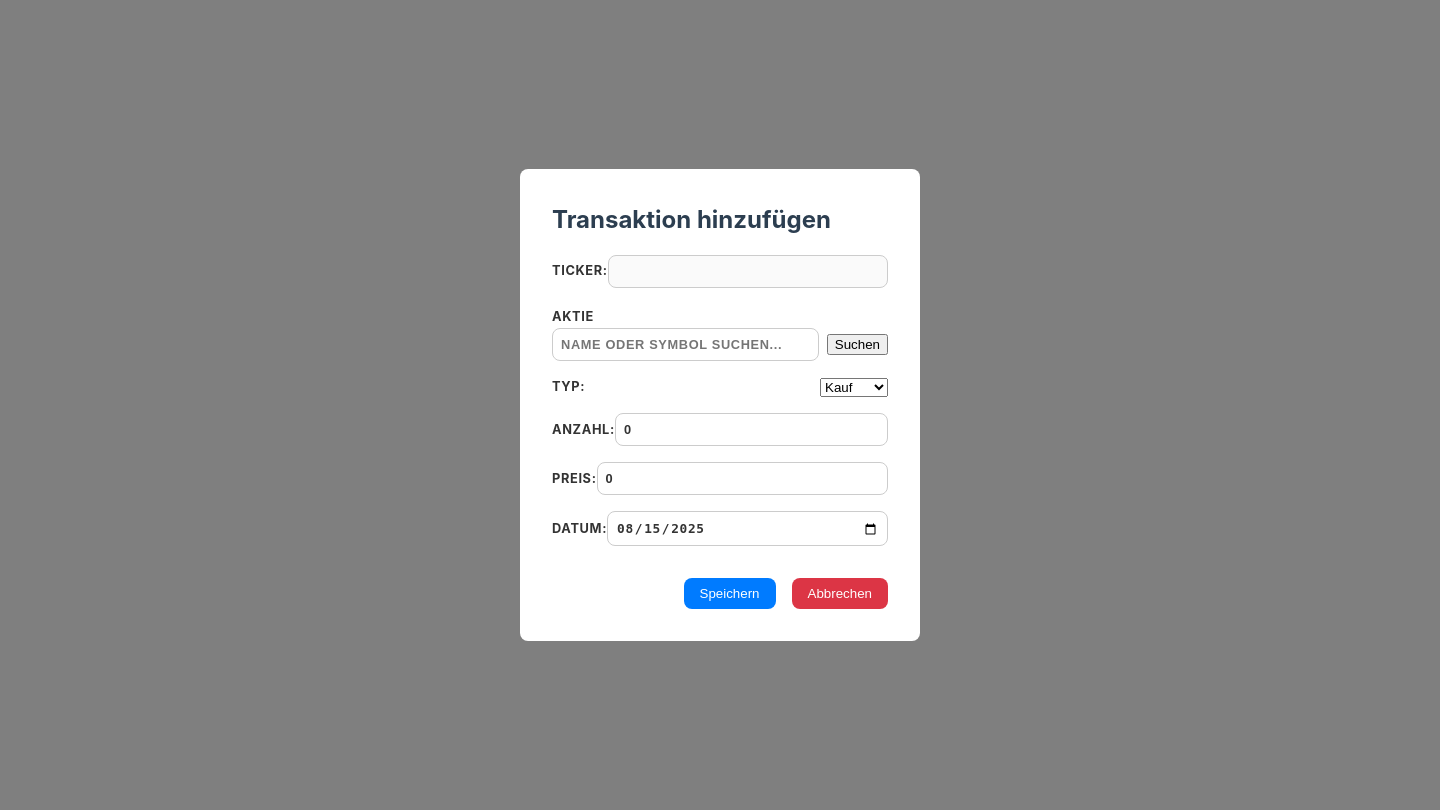
Test: AddTransactionModal › shows a message if search query is less than 3 characters
Type "Ap" into the field with id "stock-search".
click(685, 344); type("Ap")  # box top-left (552, 328), bottom-right (819, 361)
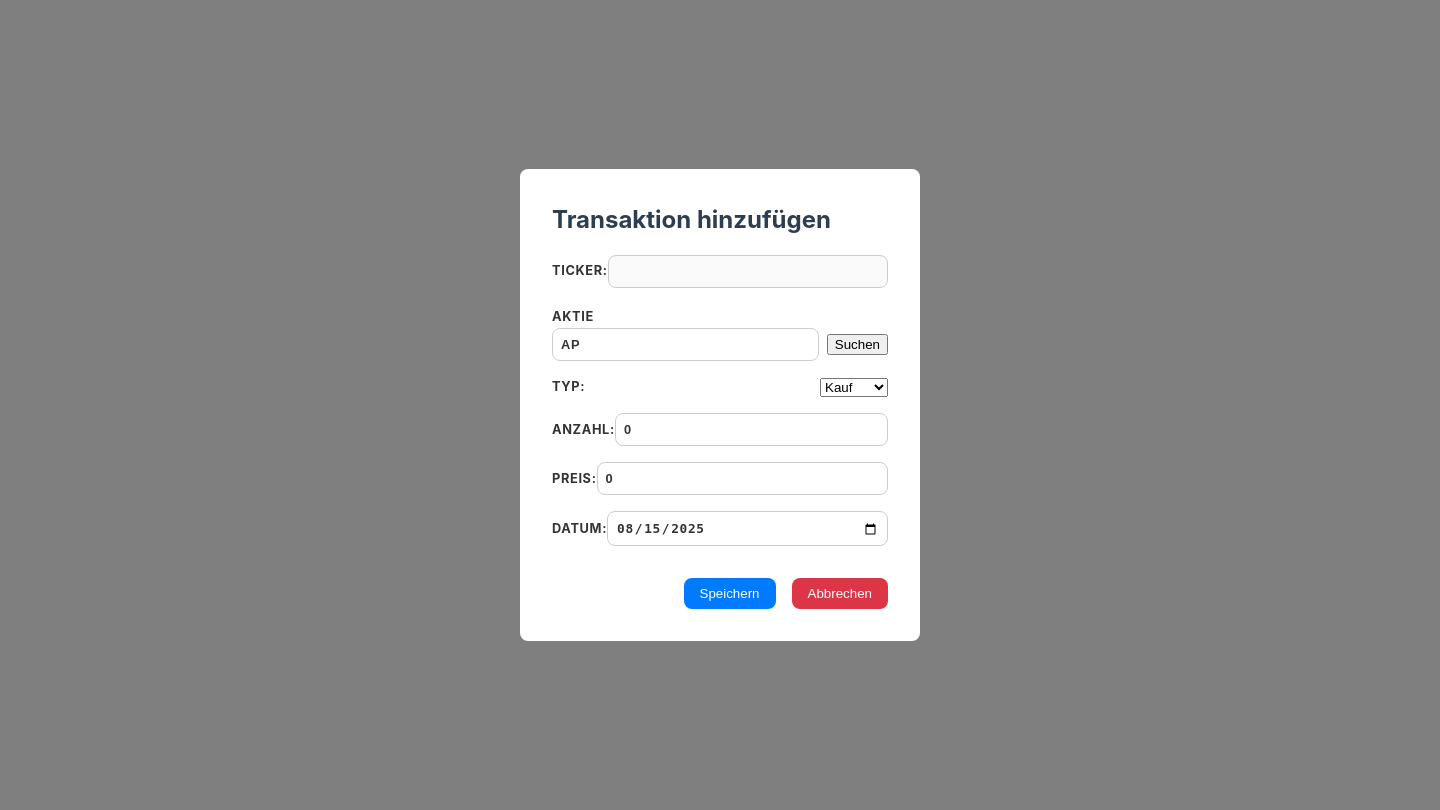
Click the button "Suchen".
click(857, 344)  # box top-left (827, 334), bottom-right (888, 355)
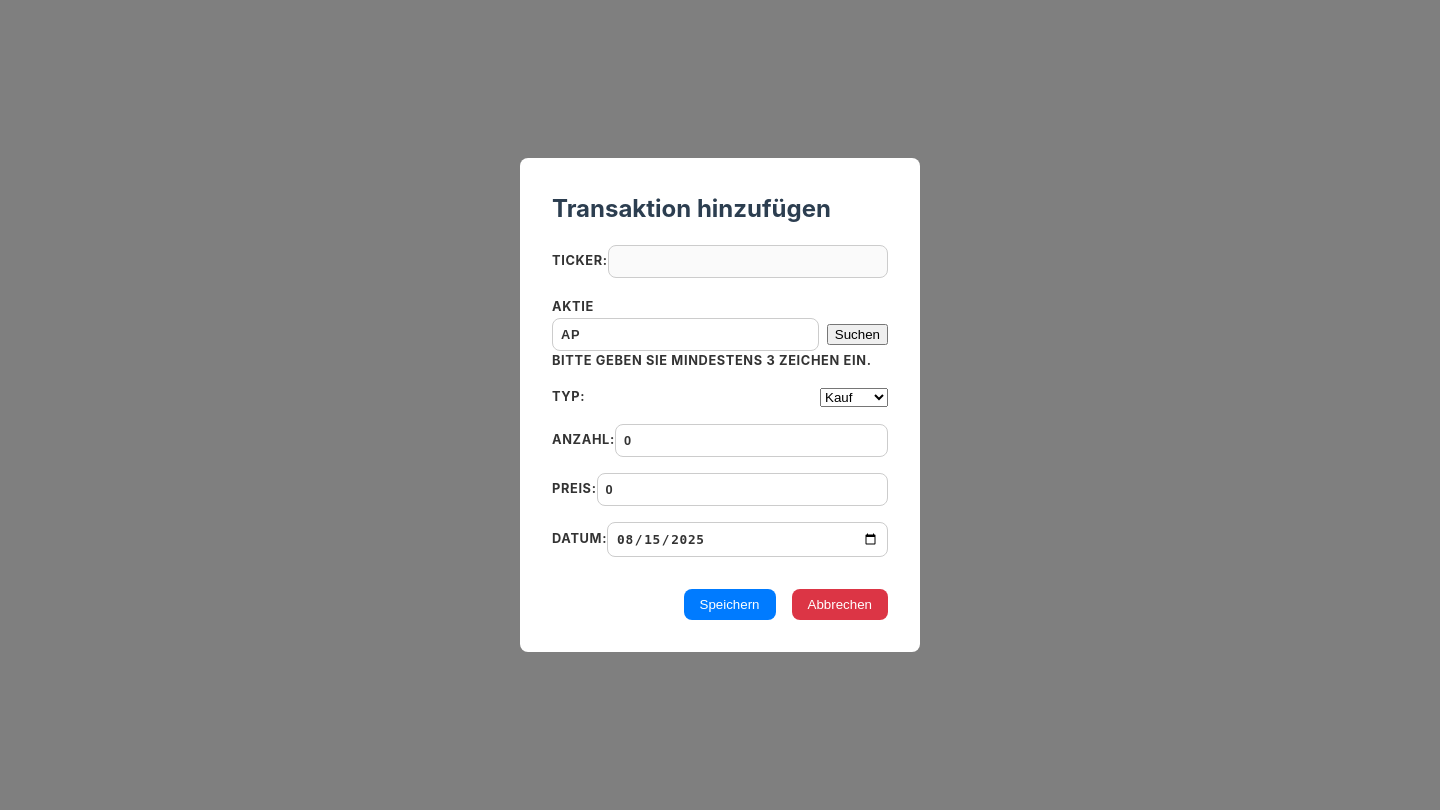
expect the text with class "search-status-message" shows "mindestens 3 Zeichen": met, box top-left (552, 353), bottom-right (872, 368)
